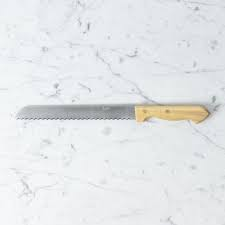knife: (14, 102, 210, 124)
